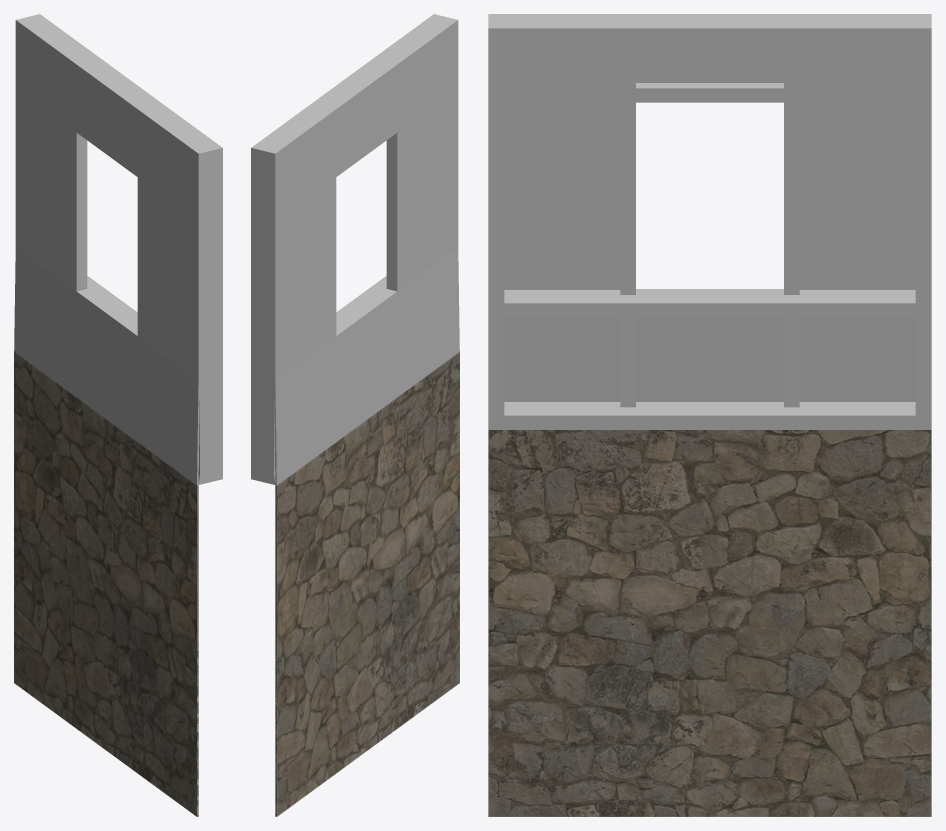
Rendered from HouseWall_2x2_v3.fbx.
3 views of the same model, side by side, from view 1: azimuth 30°, elevation 25°; view 2: azimuth 150°, elevation 25°; view 3: azimuth 270°, elevation 25° (orthographic). The views are drawn at different scales.
Parts seen in each view (by area): view 1: Plane.104; view 2: Plane.104; view 3: Plane.104.
Boxes of the visible parts, x1,y1,x2,y2 form: Plane.104: (14, 14, 222, 816); Plane.104: (251, 14, 459, 816); Plane.104: (488, 14, 931, 816).
Bounding box in the file's own units: 16.34 × 400 × 200.
